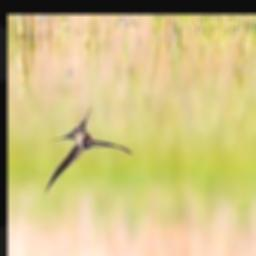Swallow: (46, 109, 132, 192)
